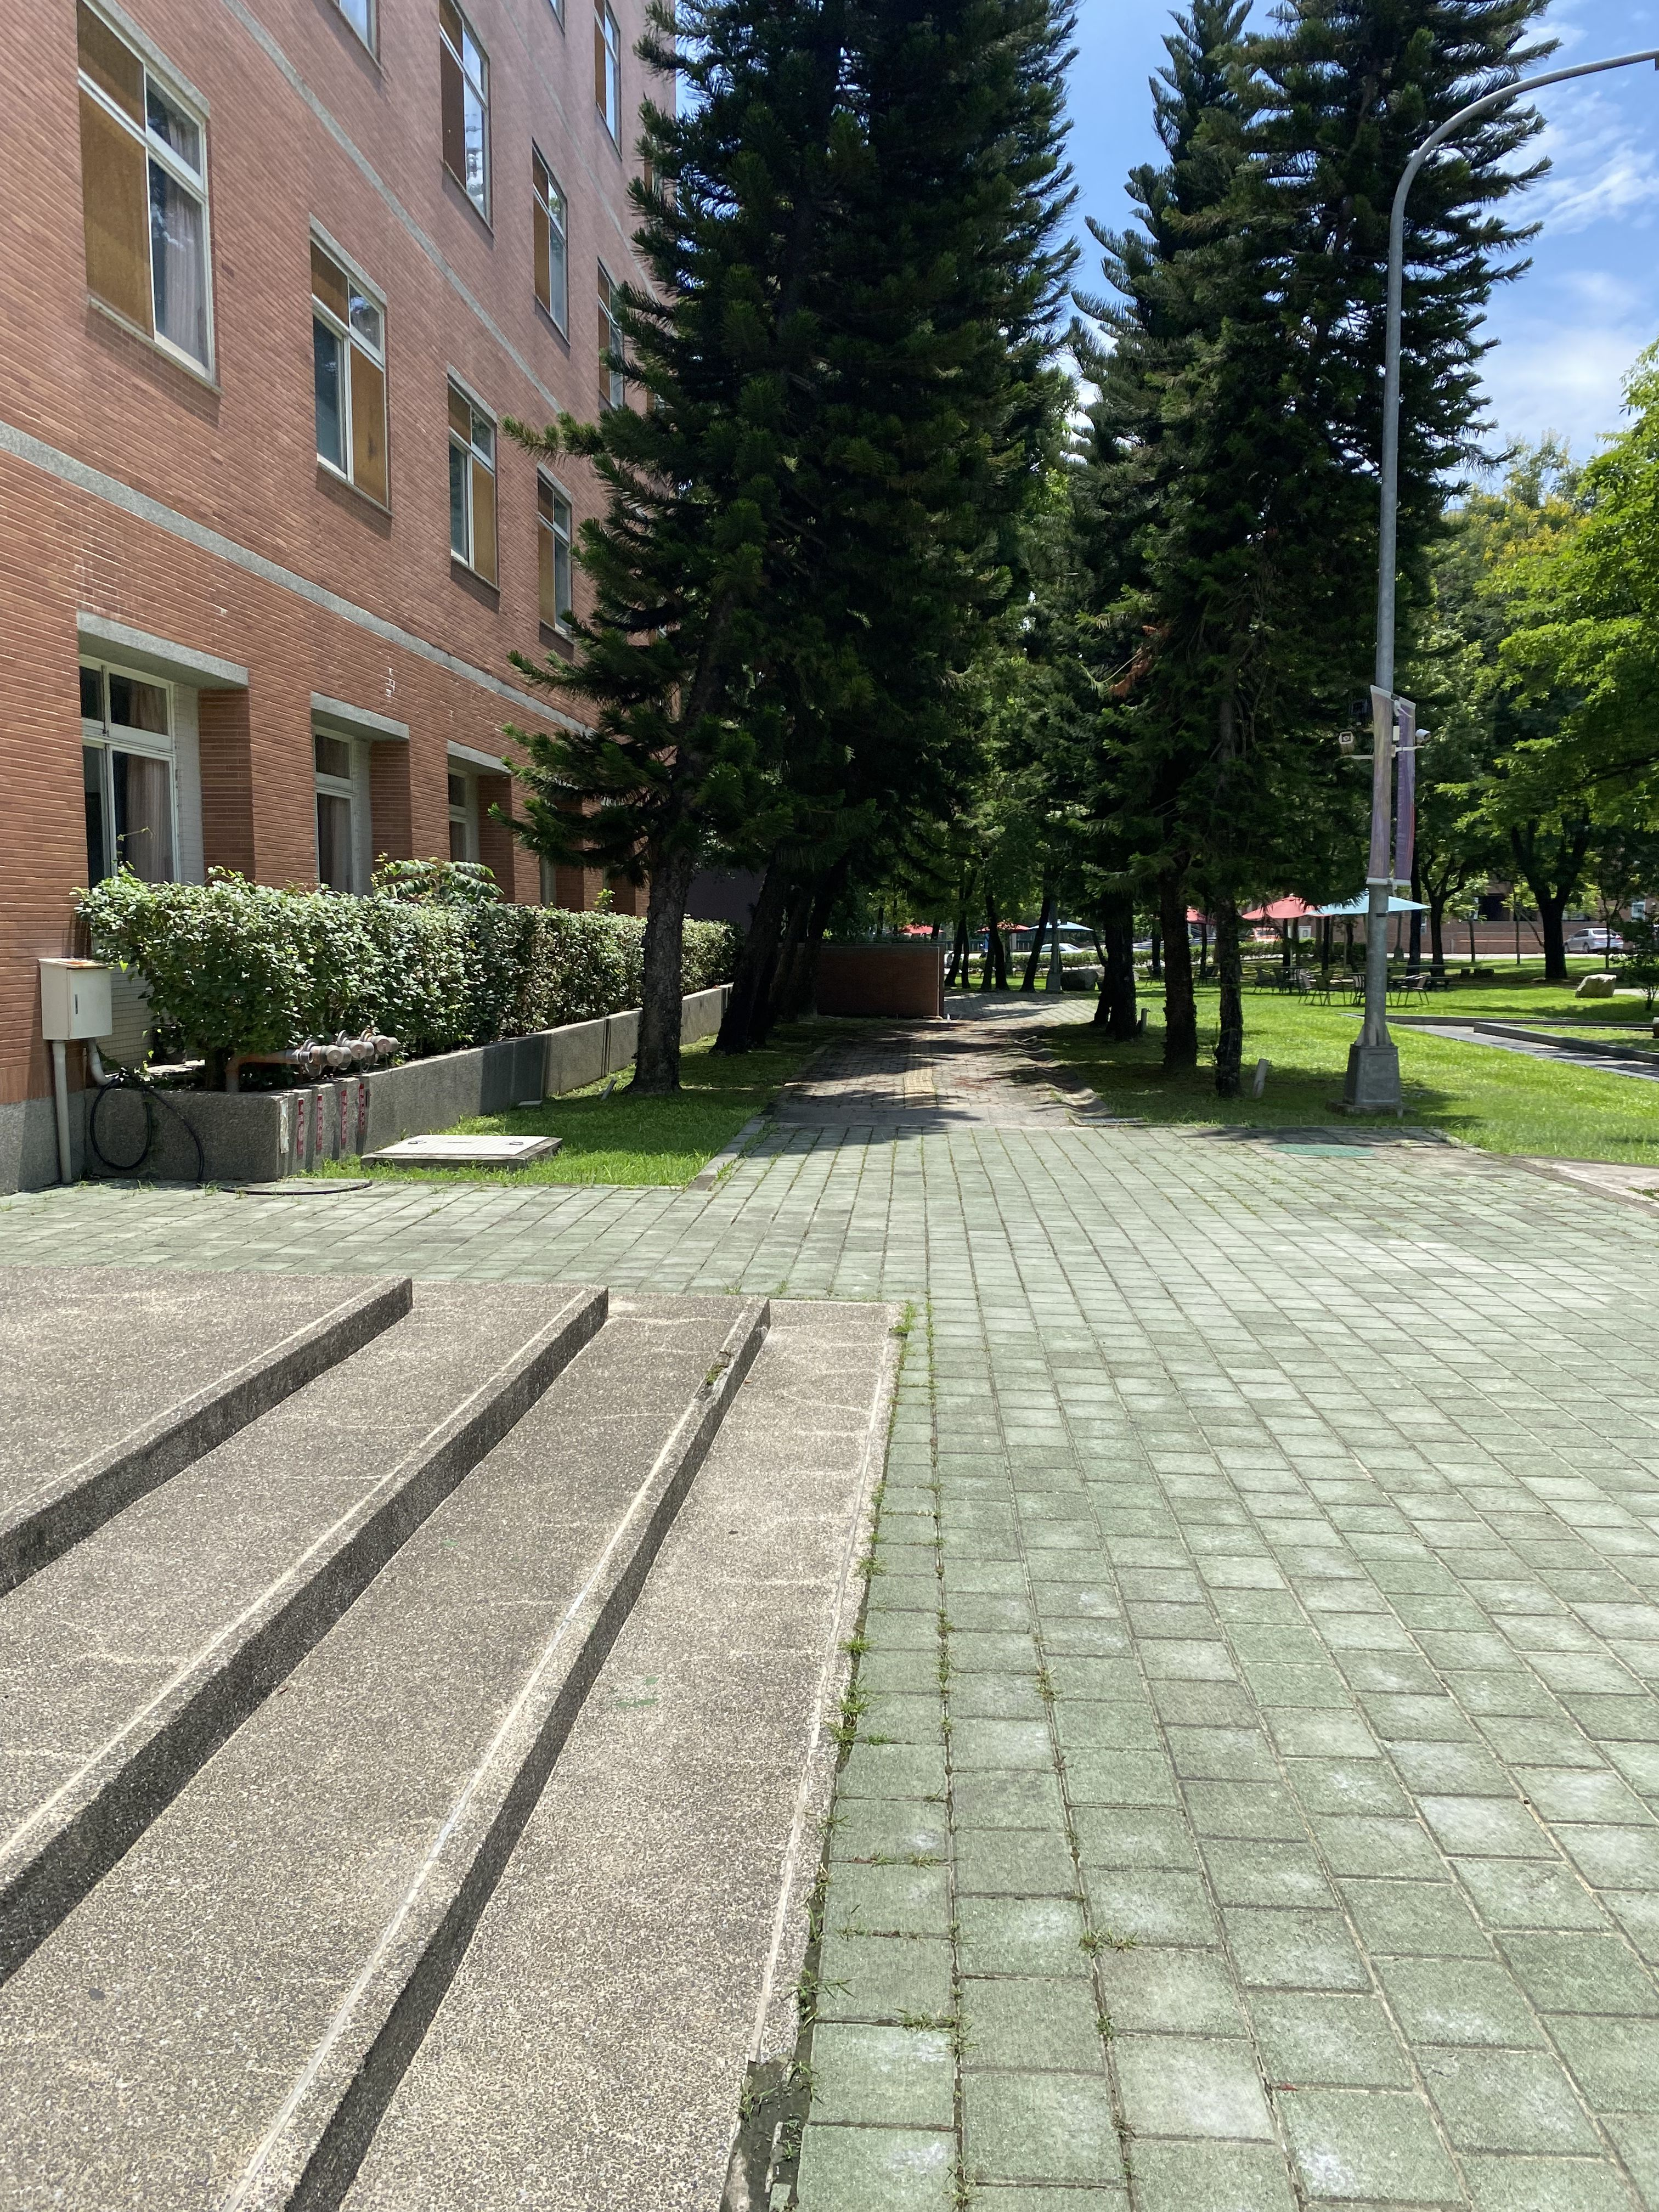sidewalk: (671, 906, 1659, 2212)
